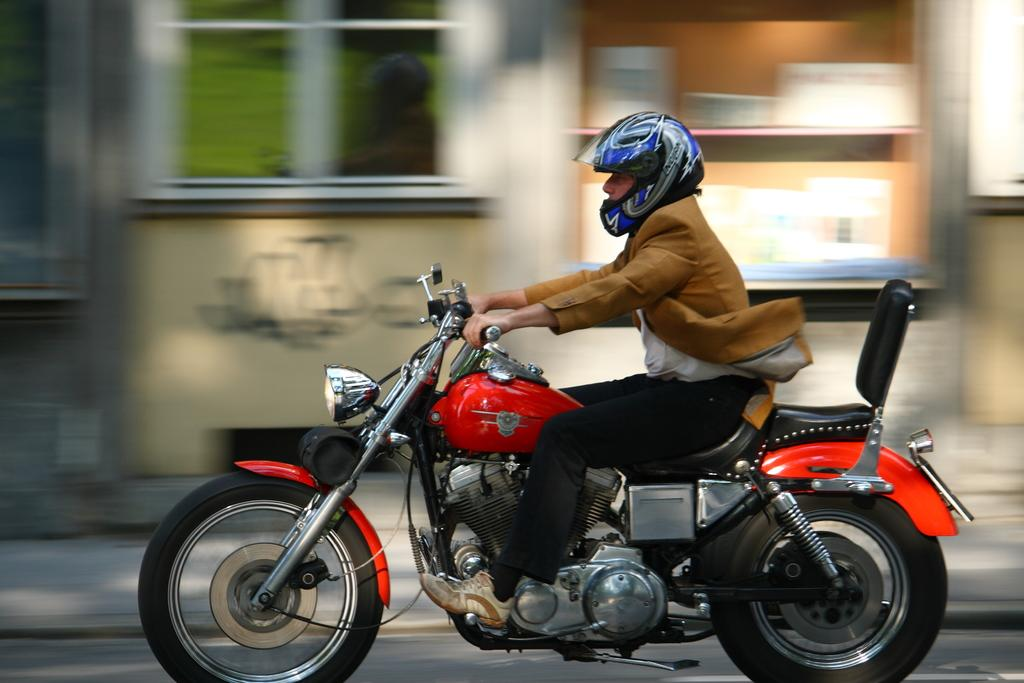helmet: (572, 111, 705, 237)
